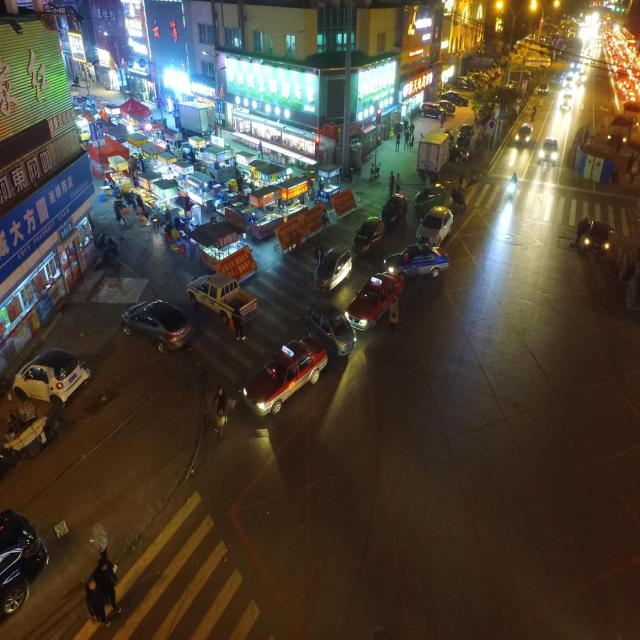car: (241, 332, 328, 417), (13, 348, 90, 410), (121, 298, 194, 354), (185, 272, 258, 327), (343, 270, 405, 332), (304, 298, 357, 356), (383, 242, 449, 280), (314, 245, 352, 292), (415, 205, 454, 247), (575, 218, 614, 255), (352, 216, 384, 256), (537, 137, 559, 167)
person: (212, 384, 228, 438), (232, 302, 246, 341), (388, 297, 399, 333), (314, 243, 324, 268)
